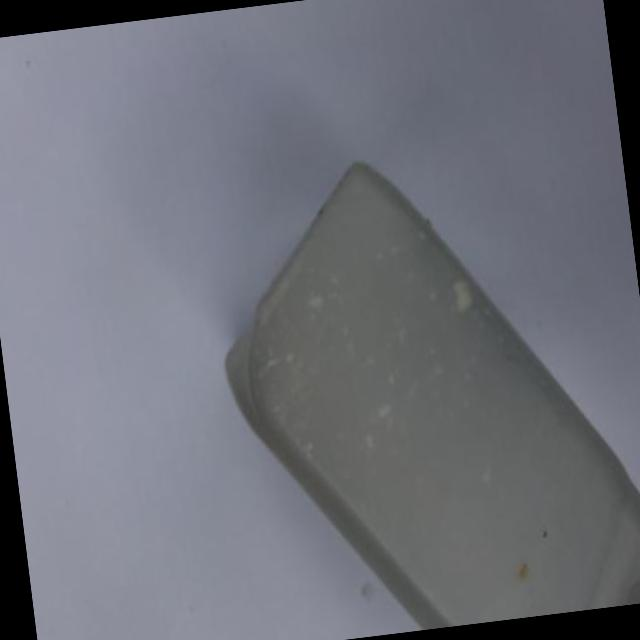Recycle: (203, 128, 640, 640)
